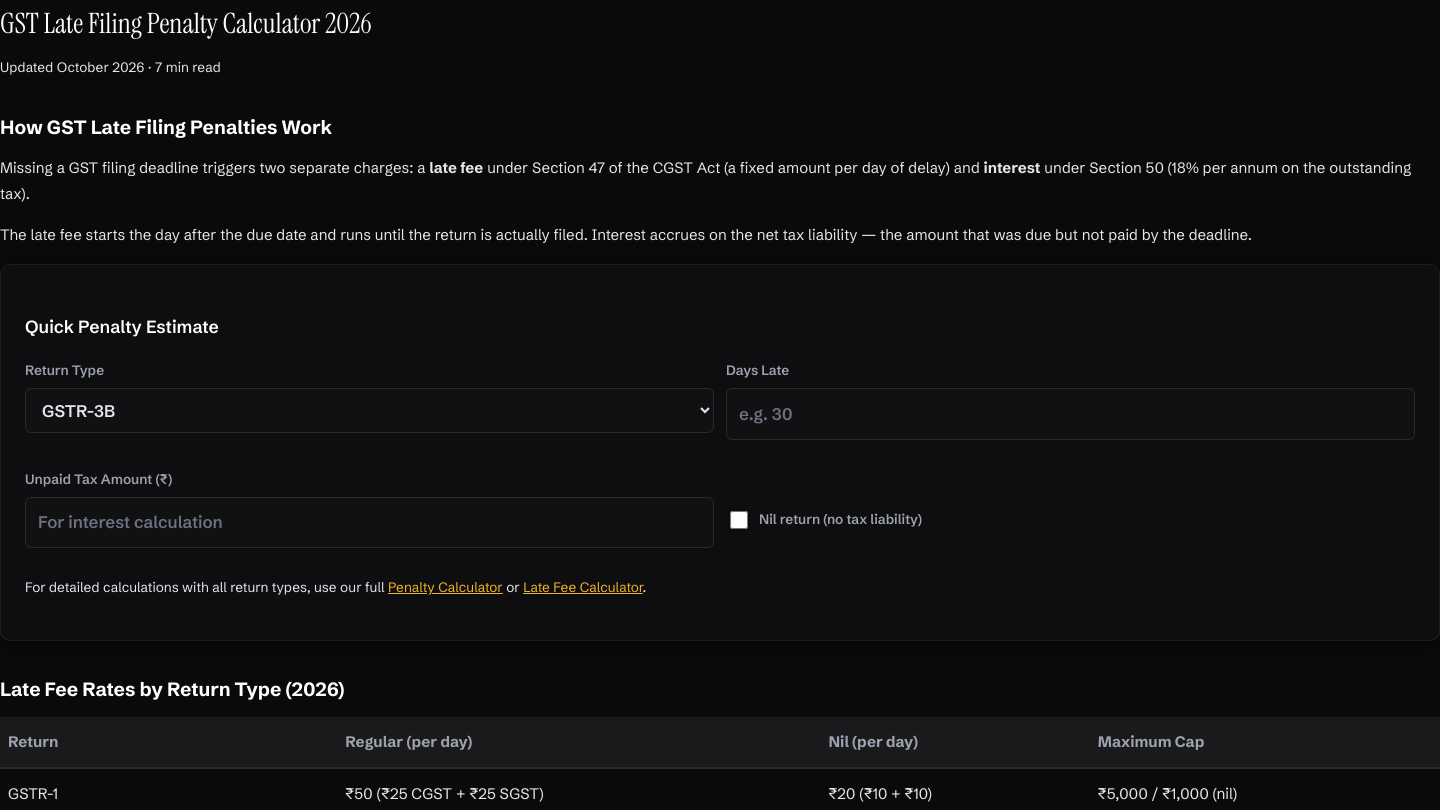
it: GstLatePenaltyCalculator › calculates penalty when days are entered
This screenshot has width=1440, height=810.
In the number field labelled "Days Late": {"x": 1070, "y": 414} [726,388,1415,440], type "30"
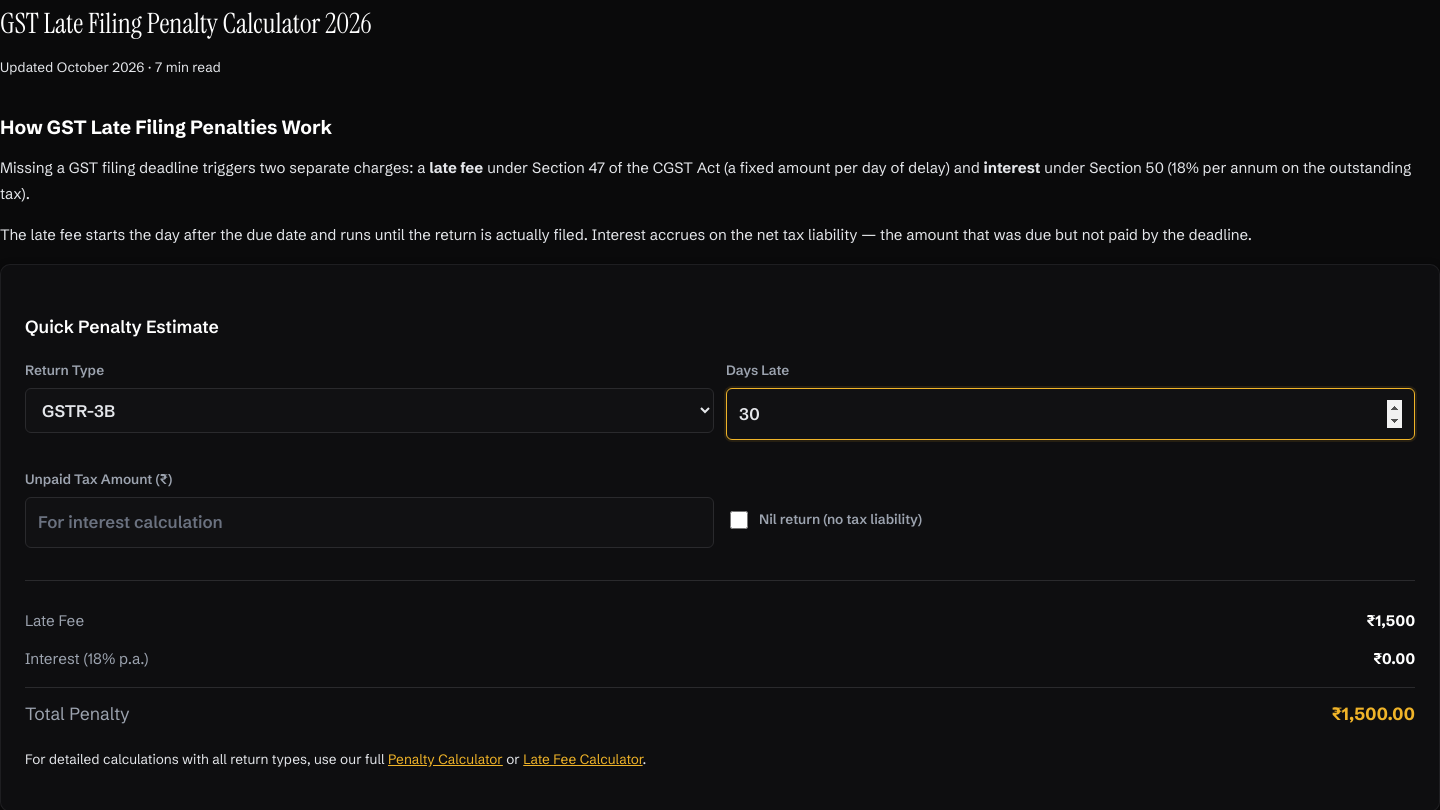
Now the element with class "calc-result" is shown, box [25,580,1415,736]
